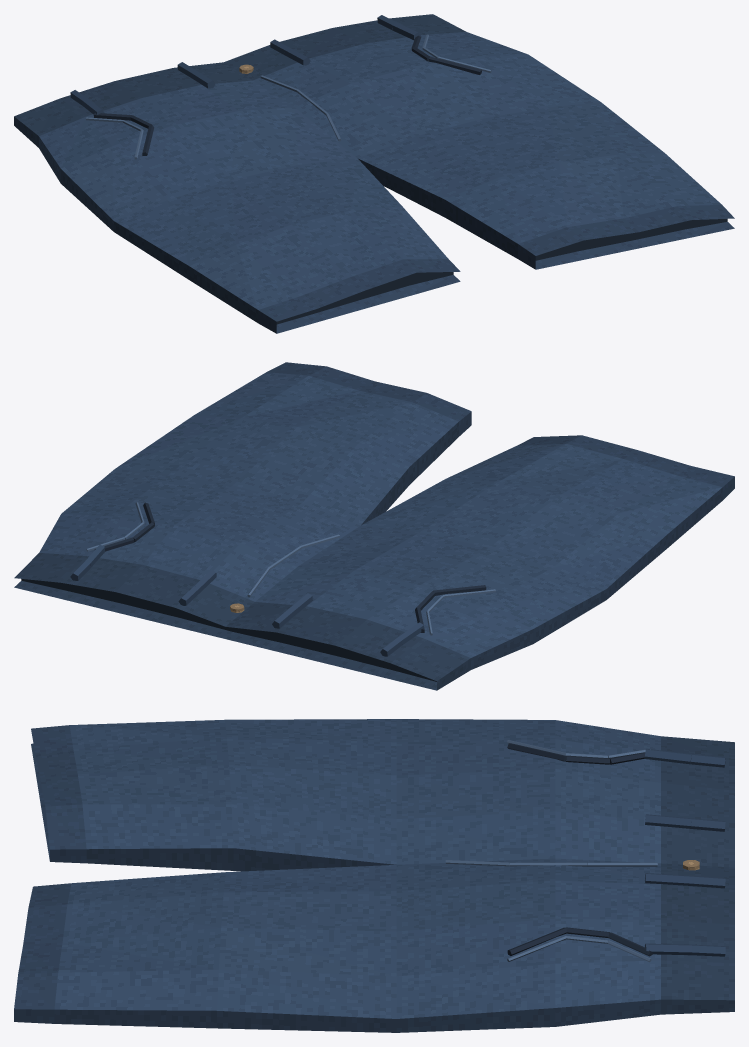
File: postman_shorts.glb
3 renders of one model, top to bottom at view 1: azimuth 30°, elevation 25°; view 2: azimuth 150°, elevation 25°; view 3: azimuth 270°, elevation 25°, orthographic. The views are drawn at different scales.
Visible parts, largest first — view 1: block_sewn shorts with open waist and cuffs; view 2: block_sewn shorts with open waist and cuffs; view 3: block_sewn shorts with open waist and cuffs, block_belt loop 1 (×2).
Part boxes in pixels (<box>): block_sewn shorts with open waist and cuffs: <box>14,14,734,333</box>; block_sewn shorts with open waist and cuffs: <box>14,362,734,690</box>; block_sewn shorts with open waist and cuffs: <box>14,719,734,1032</box>; block_belt loop 1 (×2): <box>645,748,691,828</box>.
Bounding box in the file's own units: 0.398 × 0.0273 × 0.4042.
1 material, 1 textured.
